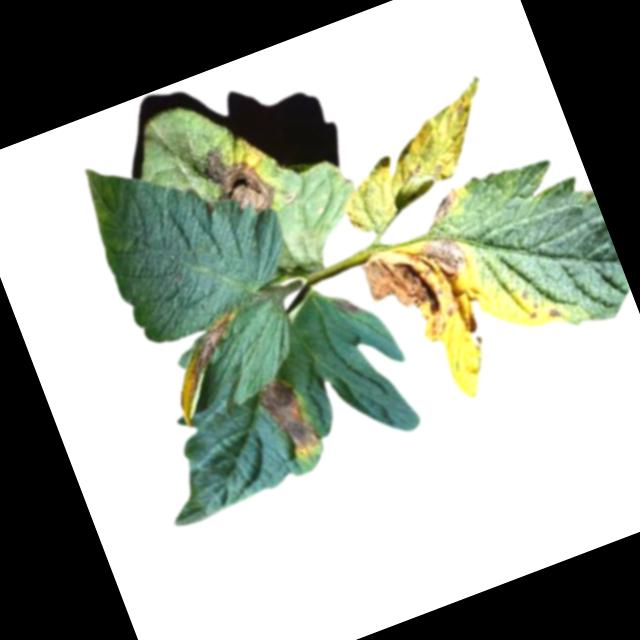Early_blight: (357, 222, 503, 371), (155, 310, 266, 425), (188, 131, 285, 231), (252, 369, 328, 467), (426, 187, 466, 225), (548, 306, 565, 321)
